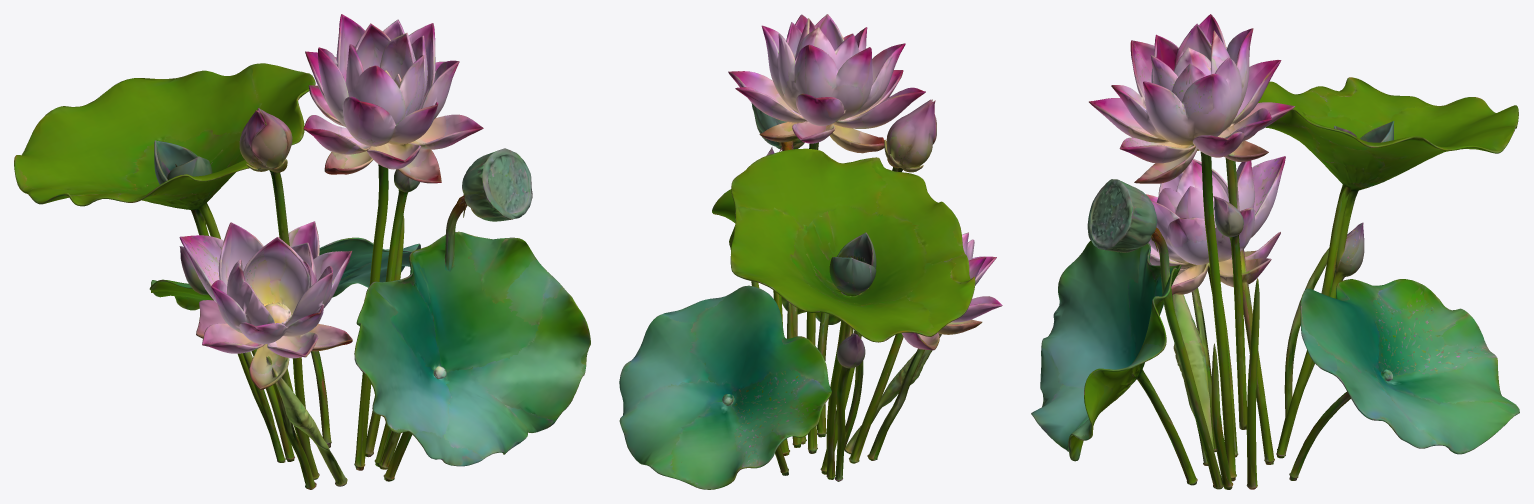
Rendered from HeHua_5.glb.
The picture shows the model from 3 angles, left to right: view 1: azimuth 30°, elevation 25°; view 2: azimuth 150°, elevation 25°; view 3: azimuth 270°, elevation 25°; orthographic projection. The views are drawn at different scales.
Visible parts, largest first — view 1: node_0; view 2: node_0; view 3: node_0.
Boxes of the visible parts, x1,y1,x2,y2 form: node_0: (14,14,590,489); node_0: (619,14,1002,489); node_0: (1031,14,1519,489).
Bounding box in the file's own units: 0.8705 × 0.9343 × 0.9163.
1 material, 1 textured.
